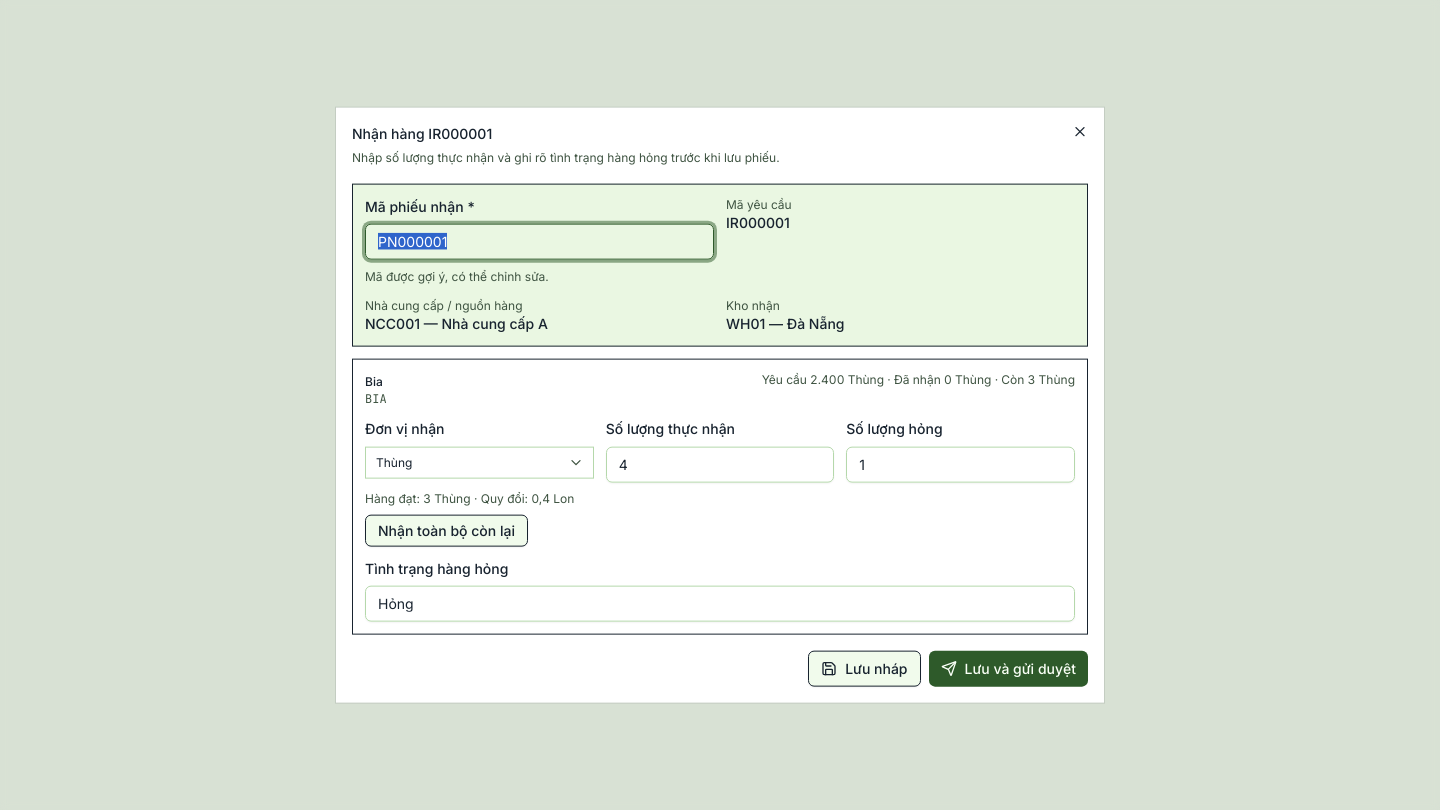
ReceiveGoodsDialog operational context › receive-all sends a normalized quantity instead of binary division noise
What coordinates should you click on to do the following:
click the button "Nhận toàn bộ còn lại"
I would click on:
 (446, 530)
Its box is [365, 514, 528, 546].
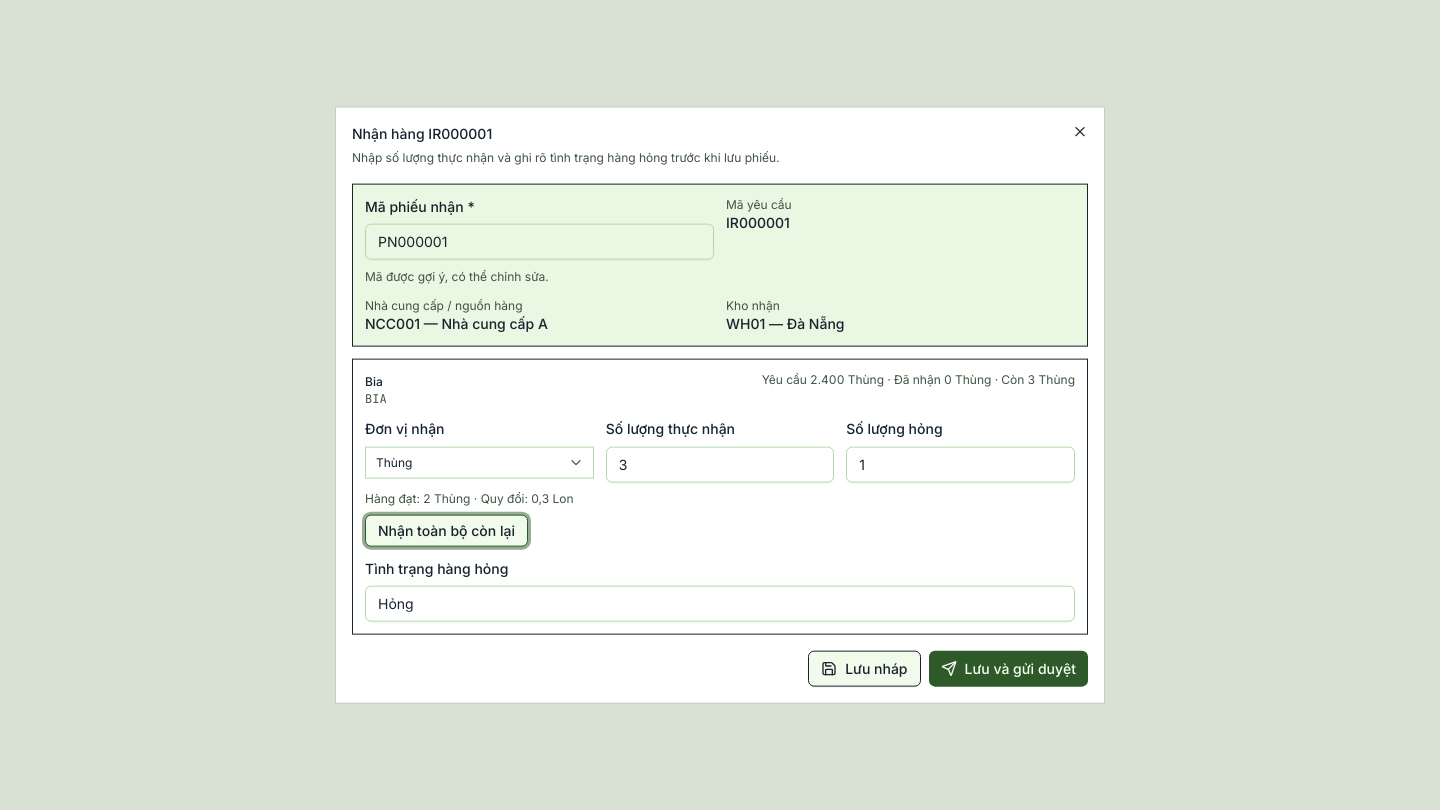
Check: the number field labelled "Số lượng thực nhận" holds "3", box [606, 446, 834, 482]
